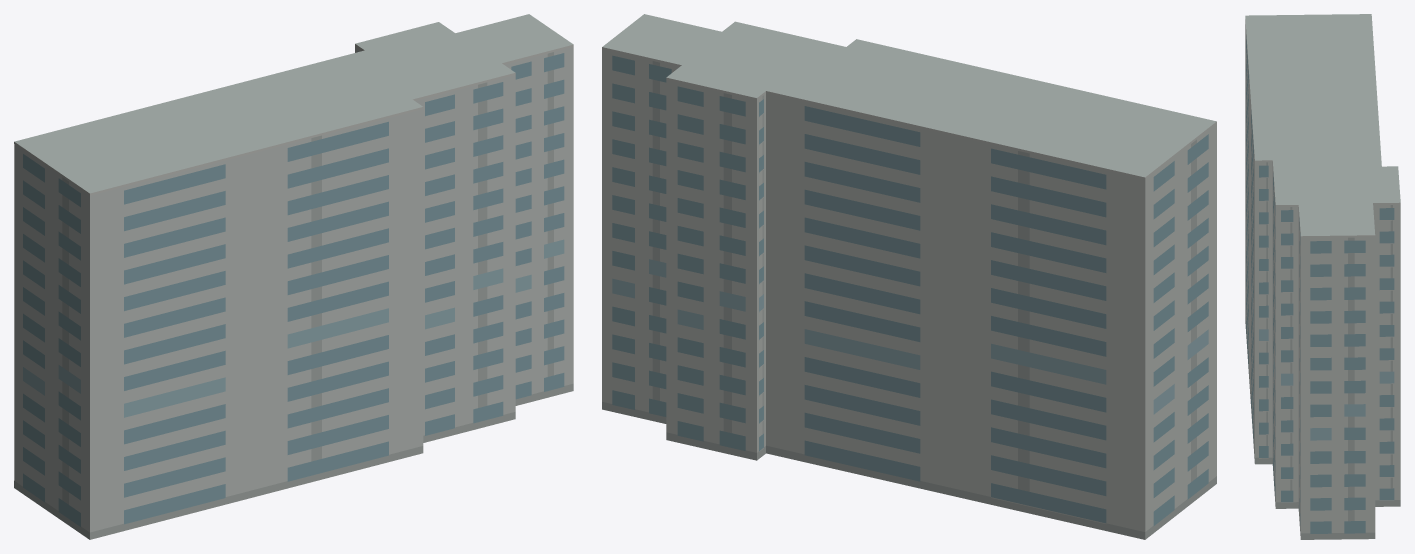
Rendered from residential-49b591c1-c89d-428a-90ab-43cae2d854aa.glb.
The picture shows the model from 3 angles, left to right: view 1: azimuth 30°, elevation 25°; view 2: azimuth 150°, elevation 25°; view 3: azimuth 270°, elevation 25°; orthographic projection. The views are drawn at different scales.
Visible parts, largest first — view 1: residential-49b591c1-c89d-428a-90ab-43cae2d854aa.tmp; view 2: residential-49b591c1-c89d-428a-90ab-43cae2d854aa.tmp; view 3: residential-49b591c1-c89d-428a-90ab-43cae2d854aa.tmp.
Boxes of the visible parts, x1,y1,x2,y2 form: residential-49b591c1-c89d-428a-90ab-43cae2d854aa.tmp: [14, 14, 573, 539]; residential-49b591c1-c89d-428a-90ab-43cae2d854aa.tmp: [602, 14, 1216, 539]; residential-49b591c1-c89d-428a-90ab-43cae2d854aa.tmp: [1245, 14, 1400, 539].
Bounding box in the file's own units: 58.04 × 37 × 17.18.
